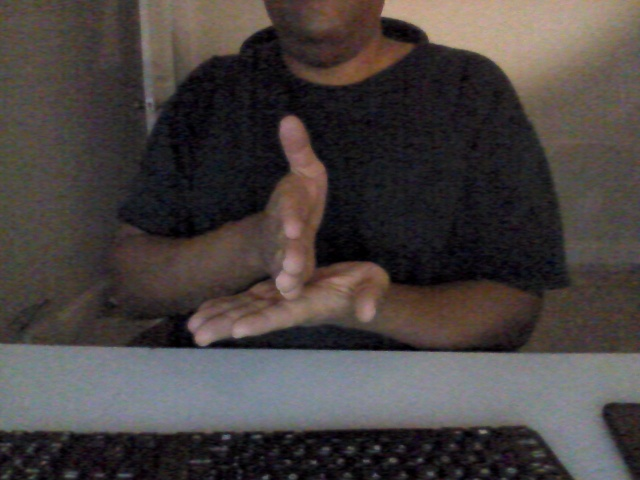stop: (185, 108, 385, 350)
